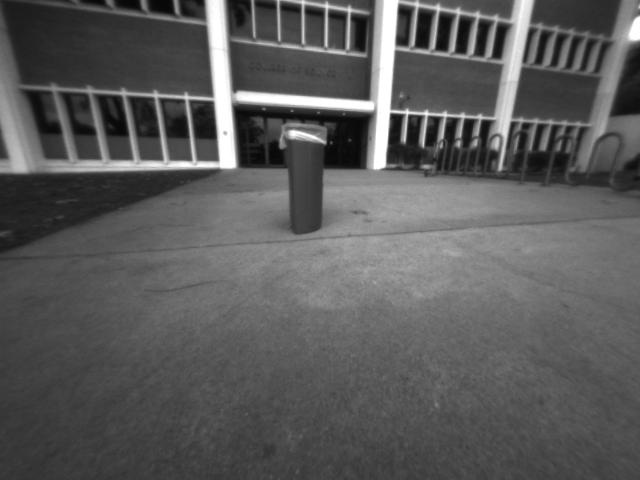trashcan_open: (277, 122, 335, 238)
